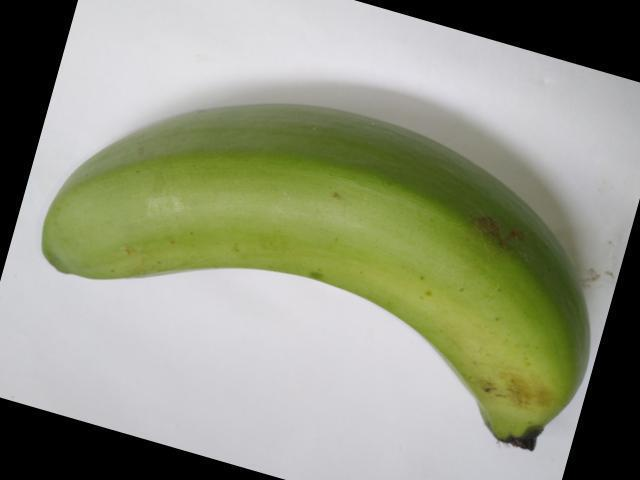freshunripe: (27, 95, 597, 462)
